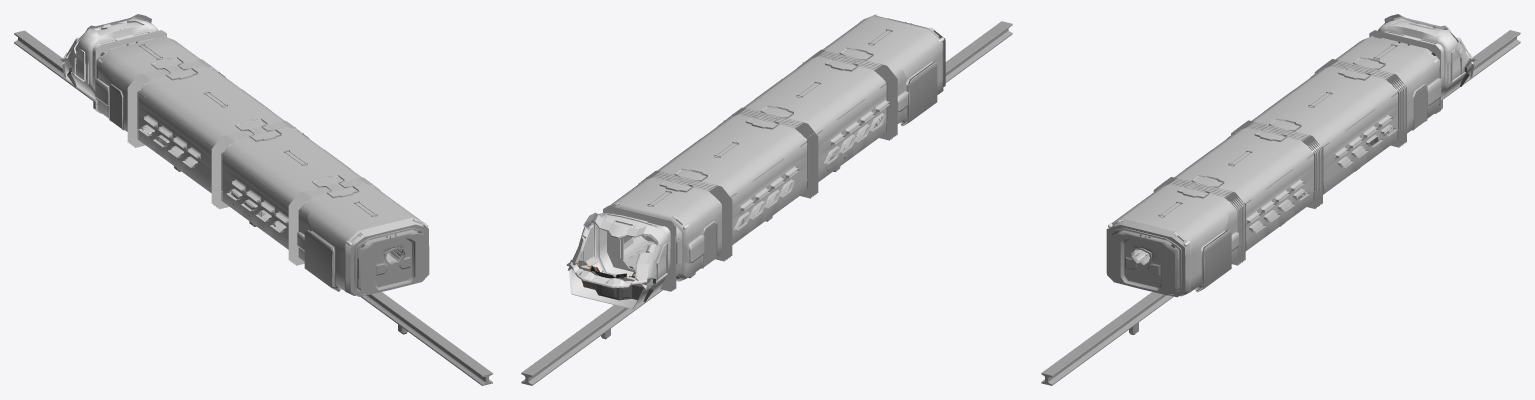
File: fulltrainfbxsym.fbx
3 views of the same model, side by side, from view 1: azimuth 30°, elevation 25°; view 2: azimuth 150°, elevation 25°; view 3: azimuth 330°, elevation 25° (orthographic). The views are drawn at different scales.
Visible parts, largest first — view 1: trainsf_lpv3:Parroie_lp, trainsf_lpv3:railway, trainsf_lpv3:trainsf_lpv3:trainsf_lpv3:polySurface5, trainsf_lpv3:backdoorcontour, trainsf_lpv3:backdoor_lp, Arche_lp3, Arche_lp27, Arche_lp28, trainsf_lpv3:lateraldoor_big_lp, trainsf_lpv3:door_small_lp; view 2: trainsf_lpv3:Parroie_lp, trainsf_lpv3:trainsf_lpv3:trainsf_lpv3:polySurface5, trainsf_lpv3:railway, Arche_lp3, Arche_lp28, Arche_lp27, trainsf_lpv3:lateraldoor_big_lp, trainsf_lpv3:Tableau_bord, trainsf_lpv3:door_small_lp; view 3: trainsf_lpv3:Parroie_lp, trainsf_lpv3:railway, trainsf_lpv3:trainsf_lpv3:trainsf_lpv3:polySurface5, trainsf_lpv3:backdoorcontour, trainsf_lpv3:backdoor_lp, Arche_lp27, Arche_lp3, Arche_lp28, trainsf_lpv3:lateraldoor_big_lp, trainsf_lpv3:door_small_lp, trainsf_lpv3:armature_bigdoor.
Part boxes in pixels (bbox=[...]): trainsf_lpv3:Parroie_lp: bbox=[95, 36, 425, 295]; trainsf_lpv3:railway: bbox=[14, 30, 492, 385]; trainsf_lpv3:trainsf_lpv3:trainsf_lpv3:polySurface5: bbox=[61, 14, 166, 113]; trainsf_lpv3:backdoorcontour: bbox=[350, 224, 429, 296]; trainsf_lpv3:backdoor_lp: bbox=[374, 234, 413, 288]; Arche_lp3: bbox=[127, 57, 218, 147]; Arche_lp27: bbox=[211, 118, 302, 209]; Arche_lp28: bbox=[288, 175, 380, 265]; trainsf_lpv3:lateraldoor_big_lp: bbox=[304, 230, 401, 291]; trainsf_lpv3:door_small_lp: bbox=[109, 85, 121, 128]; trainsf_lpv3:Parroie_lp: bbox=[609, 15, 943, 281]; trainsf_lpv3:trainsf_lpv3:trainsf_lpv3:polySurface5: bbox=[568, 205, 676, 309]; trainsf_lpv3:railway: bbox=[521, 21, 1012, 385]; Arche_lp3: bbox=[638, 168, 732, 261]; Arche_lp28: bbox=[804, 47, 897, 140]; Arche_lp27: bbox=[725, 105, 818, 198]; trainsf_lpv3:lateraldoor_big_lp: bbox=[901, 61, 937, 126]; trainsf_lpv3:Tableau_bord: bbox=[566, 260, 655, 302]; trainsf_lpv3:door_small_lp: bbox=[623, 222, 716, 266]; trainsf_lpv3:Parroie_lp: bbox=[1110, 36, 1441, 296]; trainsf_lpv3:railway: bbox=[1041, 30, 1520, 385]; trainsf_lpv3:trainsf_lpv3:trainsf_lpv3:polySurface5: bbox=[1369, 14, 1475, 113]; trainsf_lpv3:backdoorcontour: bbox=[1106, 225, 1185, 297]; trainsf_lpv3:backdoor_lp: bbox=[1122, 234, 1161, 289]; Arche_lp27: bbox=[1231, 118, 1322, 208]; Arche_lp3: bbox=[1314, 57, 1406, 147]; Arche_lp28: bbox=[1153, 175, 1245, 265]; trainsf_lpv3:lateraldoor_big_lp: bbox=[1134, 230, 1231, 292]; trainsf_lpv3:door_small_lp: bbox=[1414, 85, 1426, 128]; trainsf_lpv3:armature_bigdoor: bbox=[1175, 72, 1398, 292].
Size of the model in its own units: 456 by 495 by 4100.
